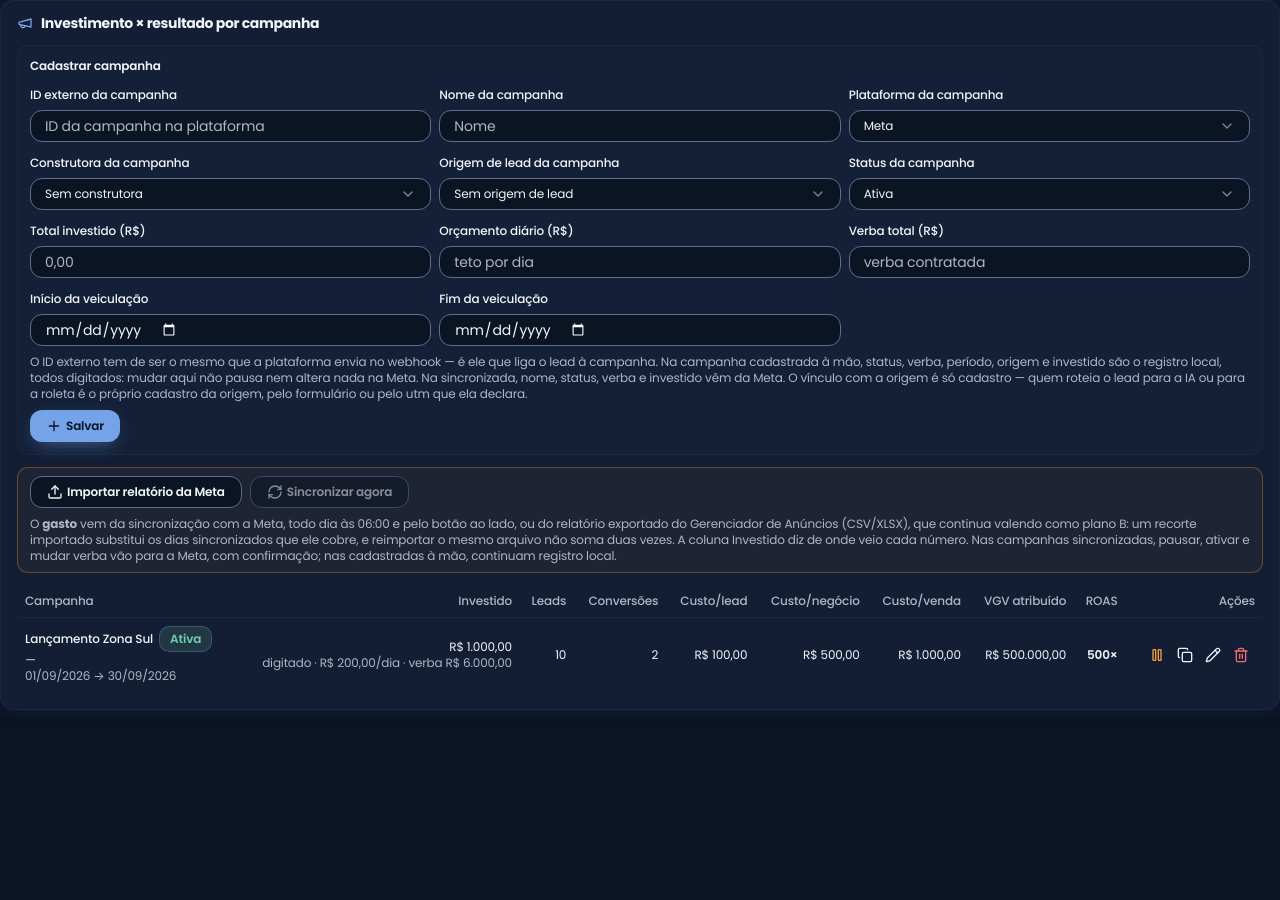
Test: CampaignPerformancePanel › o rascunho de cópia tem saída e o Cancelar o limpa
The image size is (1280, 900).
Expected: the table is shown, [17, 585, 1263, 693]
Click the button named "Copiar Lançamento Zona Sul".
click(1185, 655)  # box [1171, 641, 1199, 669]
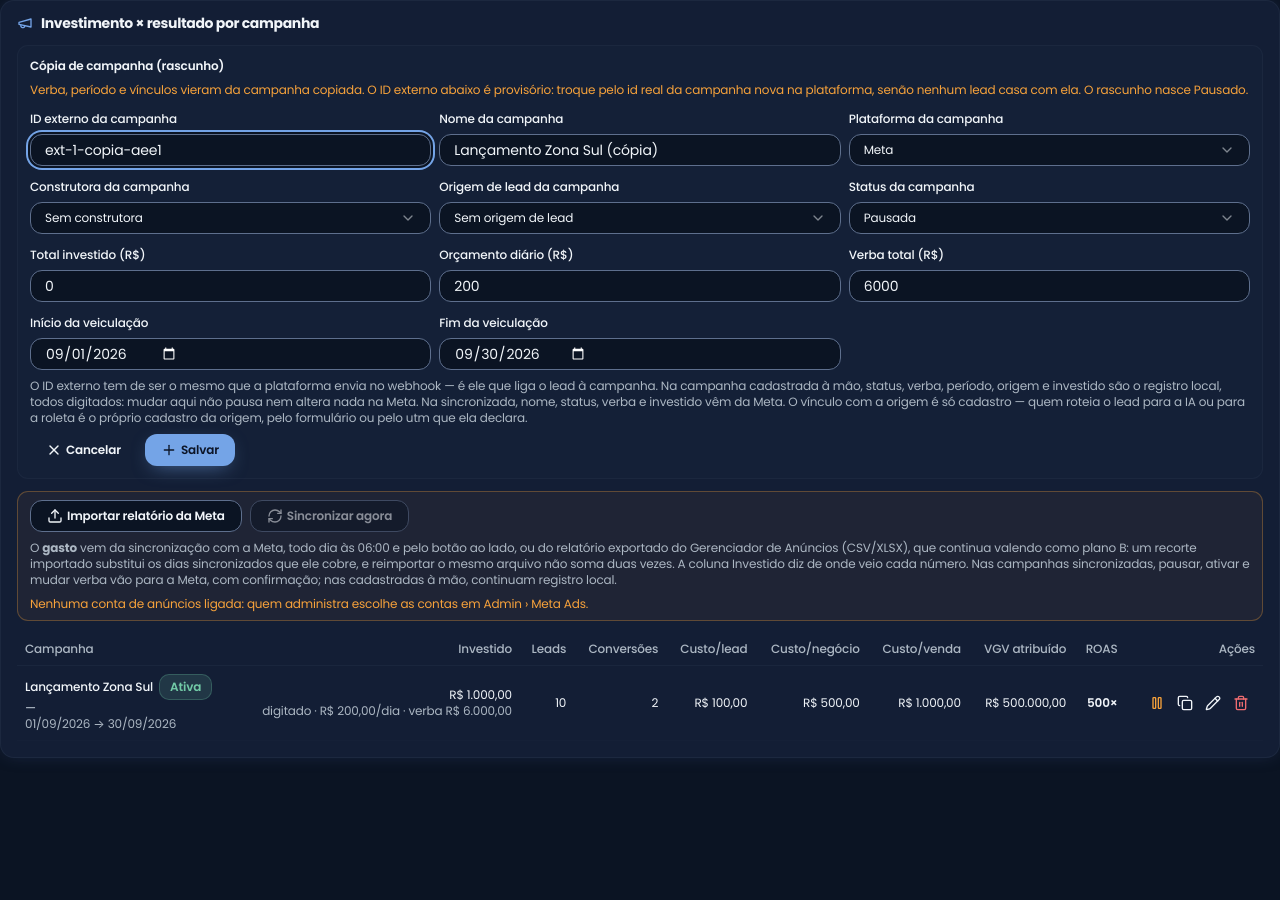
Expected: the label "Verba total (R$)" is shown, [849, 246, 944, 263]
Expected: the text "Cópia de campanha (rascunho)" is shown, [30, 57, 224, 74]
Expected: the button "Cancelar" is shown
Click the button "Cancelar".
click(84, 450)  # box [30, 434, 137, 466]
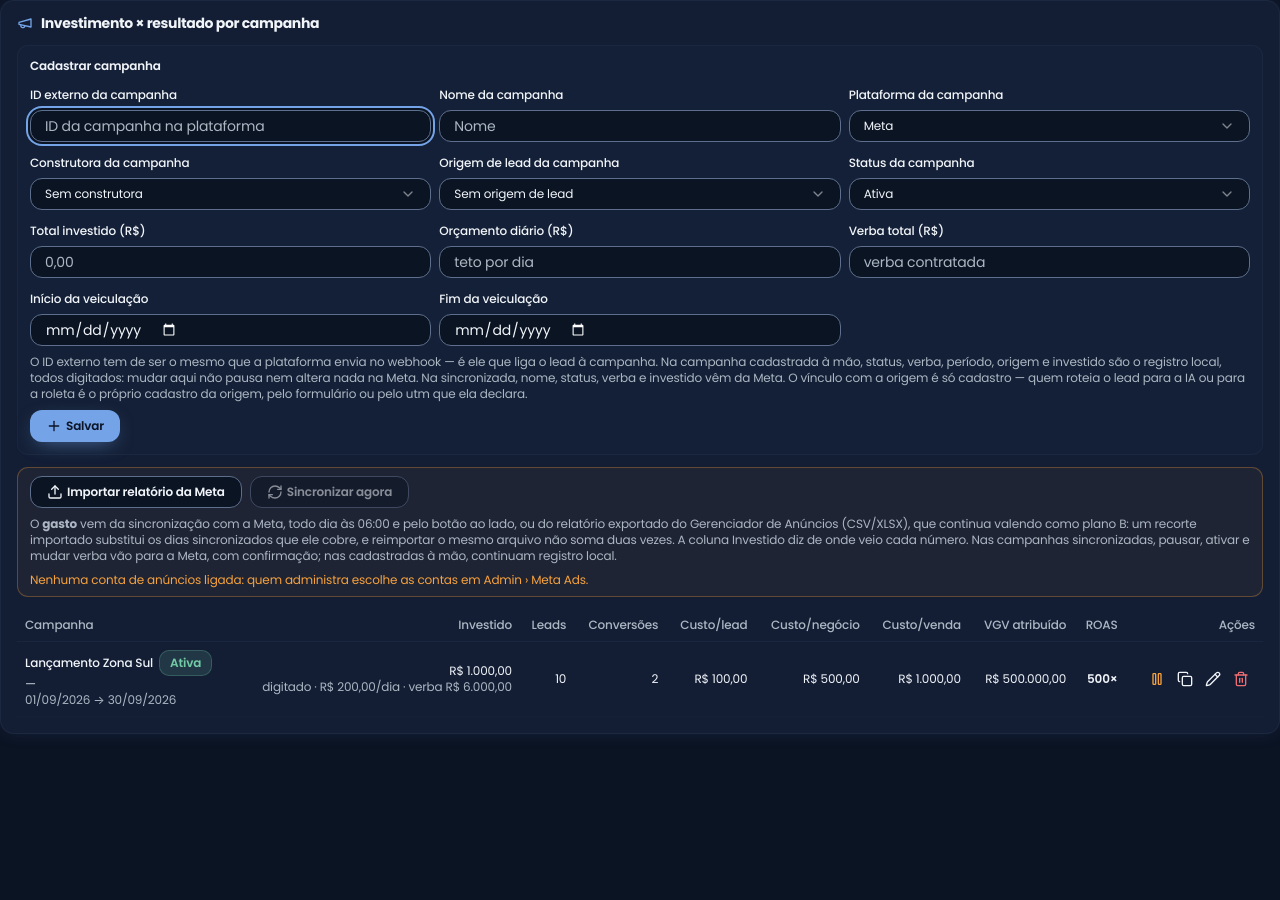
Expected: the label "ID externo da campanha" is shown, [30, 86, 177, 103]
Expected: the text "Cadastrar campanha" is shown, [30, 57, 161, 74]
Expected: the text "Cópia de campanha (rascunho)" is gone
